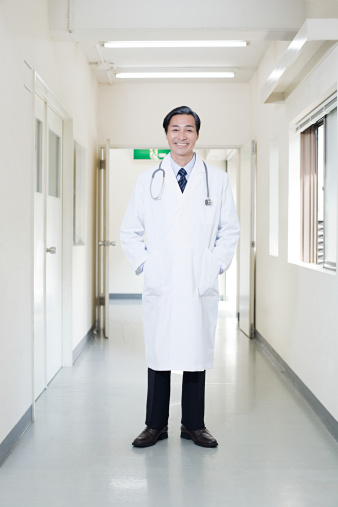em pe: (111, 94, 238, 457)
